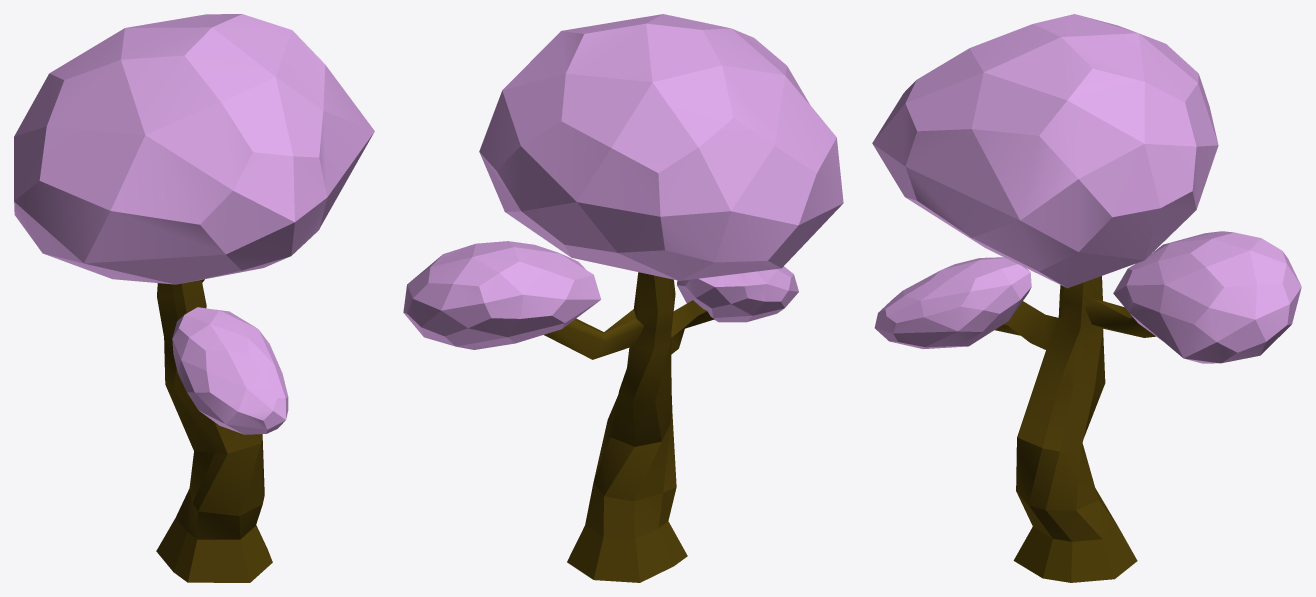
File: CherryBlossom1.fbx
3 renders of one model, left to right at view 1: azimuth 30°, elevation 25°; view 2: azimuth 150°, elevation 25°; view 3: azimuth 270°, elevation 25°, orthographic. The views are drawn at different scales.
Parts seen in each view (by area): view 1: pCube12; view 2: pCube12; view 3: pCube12.
Part boxes in pixels (<box>): pCube12: <box>14,14,374,582</box>; pCube12: <box>403,14,843,582</box>; pCube12: <box>872,14,1301,582</box>.
Bounding box in the file's own units: 3.43 × 5.48 × 4.13.
